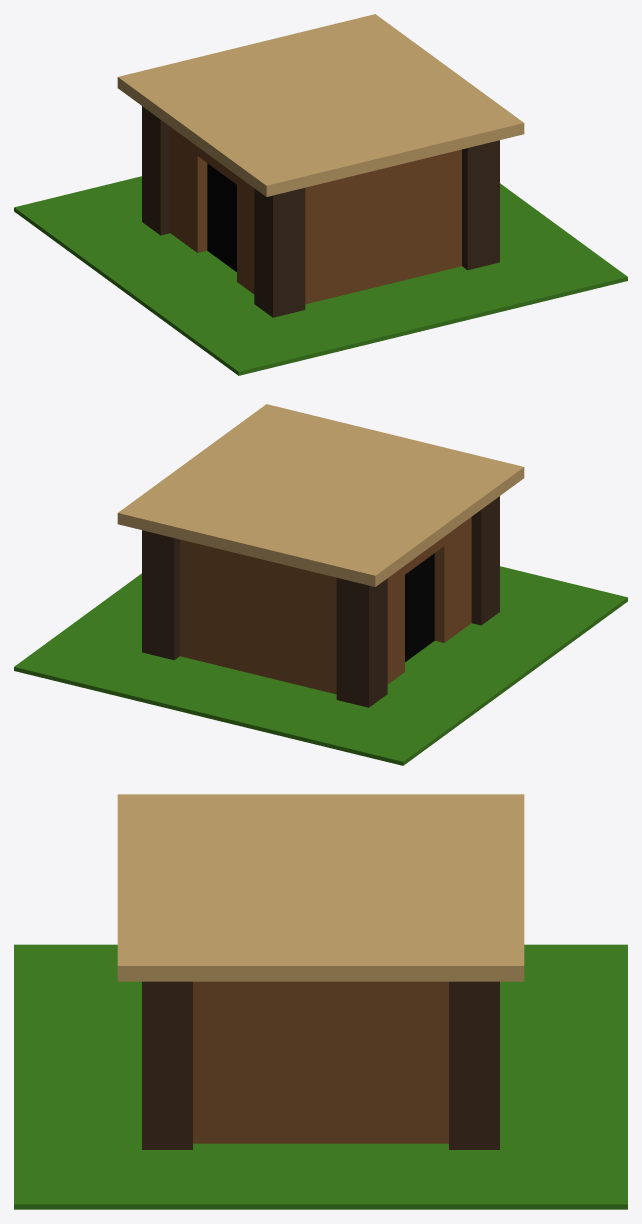
Rendered from lvl1.glb.
3 views of the same model, one above another, from view 1: azimuth 30°, elevation 25°; view 2: azimuth 150°, elevation 25°; view 3: azimuth 270°, elevation 25° (orthographic). The views are drawn at different scales.
Parts seen in each view (by area): view 1: Cube.013, Plane.001, Cube.016, Cube.019, Cube.017, Cube.021, Cube.020, Cube.011; view 2: Cube.013, Plane.001, Cube.015, Cube.020, Cube.017, Cube.018, Cube.019, Cube.011; view 3: Plane.001, Cube.013, Cube.014, Cube.018, Cube.021.
Part boxes in pixels (left/top/right/bottom): Cube.013: left=117, top=14, right=524, bottom=196; Plane.001: left=14, top=176, right=627, bottom=375; Cube.016: left=305, top=149, right=461, bottom=304; Cube.019: left=254, top=188, right=305, bottom=317; Cube.017: left=170, top=127, right=254, bottom=294; Cube.021: left=462, top=140, right=499, bottom=270; Cube.020: left=142, top=106, right=170, bottom=235; Cube.011: left=207, top=163, right=236, bottom=271; Cube.013: left=117, top=404, right=524, bottom=586; Plane.001: left=14, top=566, right=627, bottom=765; Cube.015: left=180, top=539, right=336, bottom=694; Cube.020: left=336, top=578, right=387, bottom=707; Cube.017: left=387, top=517, right=471, bottom=684; Cube.018: left=142, top=530, right=179, bottom=660; Cube.019: left=471, top=496, right=499, bottom=625; Cube.011: left=405, top=553, right=434, bottom=661; Plane.001: left=14, top=944, right=627, bottom=1209; Cube.013: left=117, top=794, right=524, bottom=981; Cube.014: left=193, top=981, right=448, bottom=1143; Cube.018: left=449, top=981, right=499, bottom=1149; Cube.021: left=142, top=981, right=192, bottom=1149.
Size of the model in its own units: 6 by 2.16 by 6.
